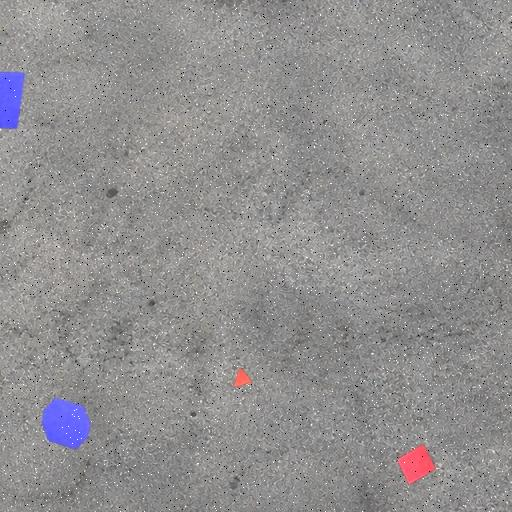RED_SQUARE: (396, 442, 437, 486)
